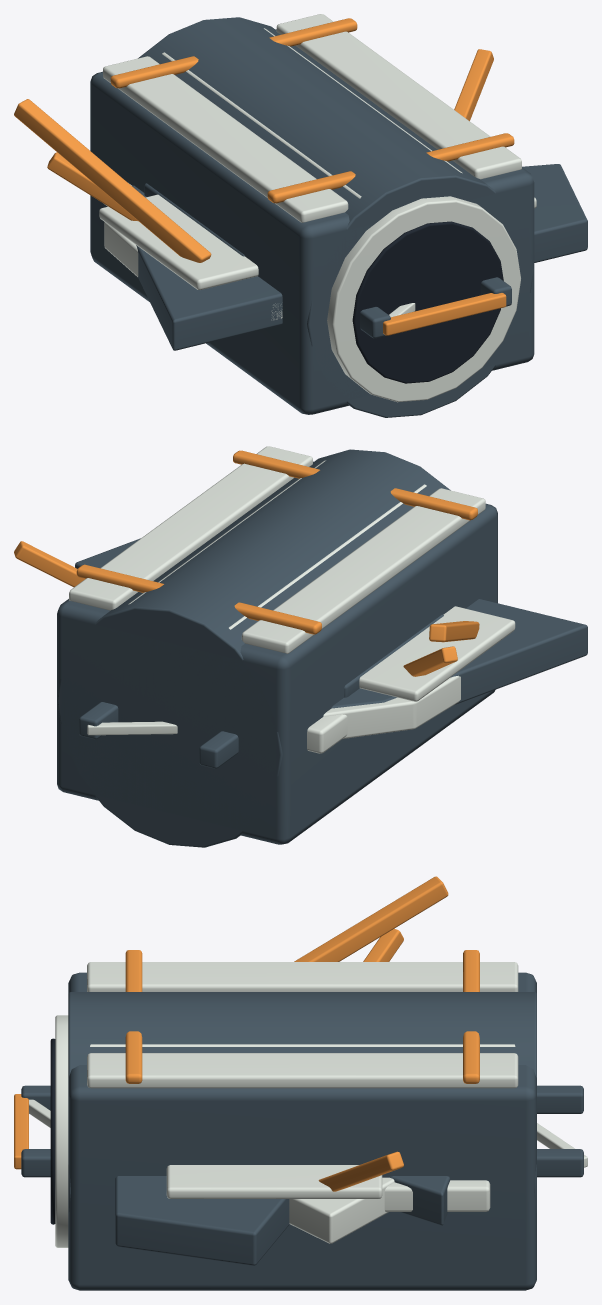
File: wreck_fragments.glb
The picture shows the model from 3 angles, top to bottom: view 1: azimuth 30°, elevation 25°; view 2: azimuth 150°, elevation 25°; view 3: azimuth 270°, elevation 25°; orthographic projection. The views are drawn at different scales.
Visible parts, largest first — view 1: Cargo container, Nacelle shell, Nacelle dark opening, Jagged deck, Nacelle hollow lip, Container raised panel, Container raised panel.003, Bent spar, Deck tile, Container tie, Container tie.001, Truss crossmember (+5 smaller); view 2: Cargo container, Nacelle shell, Container raised panel, Container raised panel.003, Jagged deck, Deck tile, Torn hull plate, Container tie.001, Container tie, Broken brace.001, Outrigger, Truss diagonal.005 (+6 smaller); view 3: Cargo container, Nacelle shell, Container raised panel.003, Jagged deck, Container raised panel, Deck tile.002, Bent spar, Torn hull plate, Nacelle hollow lip, Snapped truss rail.001, Outrigger.001, Snapped truss rail (+7 smaller).
Boxes of the visible parts, <box> form: Cargo container: <box>90,29,534,414</box>; Nacelle shell: <box>138,17,533,417</box>; Nacelle dark opening: <box>352,221,503,383</box>; Jagged deck: <box>132,164,587,350</box>; Nacelle hollow lip: <box>327,196,520,402</box>; Container raised panel: <box>103,56,348,222</box>; Container raised panel.003: <box>276,14,521,179</box>; Bent spar: <box>14,99,211,262</box>; Deck tile: <box>99,194,258,289</box>; Container tie: <box>267,133,514,203</box>; Container tie.001: <box>110,18,357,88</box>; Truss crossmember: <box>383,293,506,335</box>; Cargo container: <box>57,461,497,844</box>; Nacelle shell: <box>57,449,450,847</box>; Container raised panel: <box>241,488,485,653</box>; Container raised panel.003: <box>69,446,312,610</box>; Jagged deck: <box>75,538,587,708</box>; Deck tile: <box>359,606,515,701</box>; Torn hull plate: <box>323,675,460,738</box>; Container tie.001: <box>76,564,321,634</box>; Container tie: <box>233,450,477,520</box>; Broken brace.001: <box>14,541,84,587</box>; Outrigger: <box>307,714,347,753</box>; Truss diagonal.005: <box>87,721,177,735</box>; Cargo container: <box>68,972,536,1290</box>; Nacelle shell: <box>68,992,536,1212</box>; Container raised panel.003: <box>87,1053,518,1088</box>; Jagged deck: <box>115,1176,450,1265</box>; Container raised panel: <box>87,962,518,991</box>; Deck tile.002: <box>166,1165,382,1198</box>; Bent spar: <box>294,876,448,961</box>; Torn hull plate: <box>289,1177,394,1243</box>; Nacelle hollow lip: <box>55,1015,68,1247</box>; Snapped truss rail.001: <box>21,1149,583,1177</box>; Outrigger.001: <box>384,1180,490,1211</box>; Snapped truss rail: <box>21,1085,583,1113</box>.
Size of the model in its own units: 6.08 by 3.08 by 6.12.
